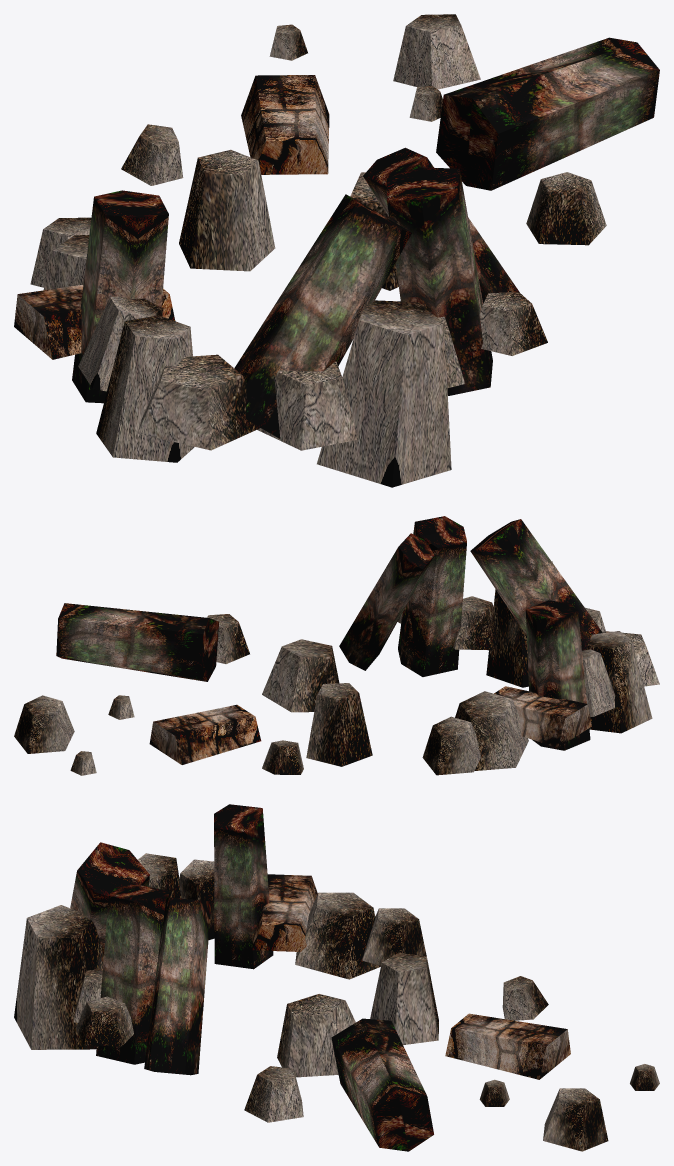
The model's file is thm_dant_large_rock_hut_dest_s01_l1.fbx.
The picture shows the model from 3 angles, top to bottom: view 1: azimuth 30°, elevation 25°; view 2: azimuth 150°, elevation 25°; view 3: azimuth 270°, elevation 25°; orthographic projection. The views are drawn at different scales.
Visible parts, largest first — view 1: mesh_node; view 2: mesh_node; view 3: mesh_node.
Part boxes in pixels (x1=…): mesh_node: x1=14, y1=14, x2=659, y2=487; mesh_node: x1=14, y1=516, x2=659, y2=775; mesh_node: x1=14, y1=804, x2=659, y2=1151.
Bounding box in the file's own units: 19.09 × 6.43 × 19.92.
